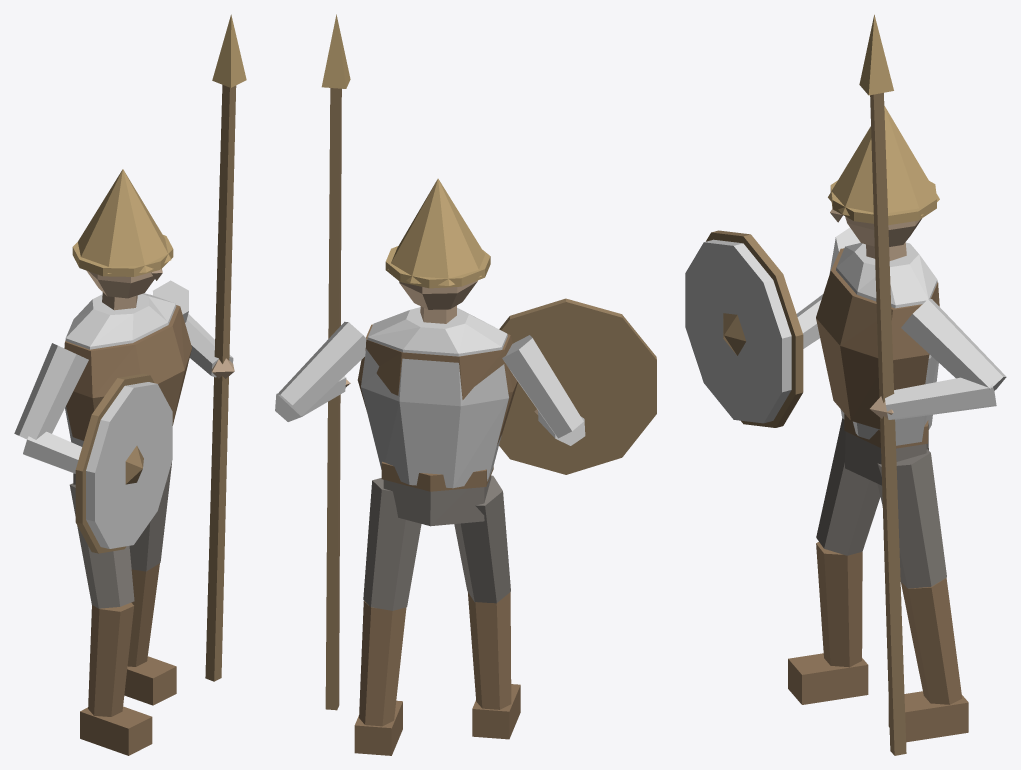
The model's file is spearman.glb.
The picture shows the model from 3 angles, left to right: view 1: azimuth 30°, elevation 25°; view 2: azimuth 150°, elevation 25°; view 3: azimuth 270°, elevation 25°; orthographic projection. The views are drawn at different scales.
Visible parts, largest first — view 1: LOD0; view 2: LOD0; view 3: LOD0.
Part boxes in pixels (bbox=[...]): LOD0: bbox=[14, 14, 246, 755]; LOD0: bbox=[275, 14, 656, 755]; LOD0: bbox=[685, 14, 1006, 755].
Size of what is drawn, in the model's own units: 0.4951 by 1.3 by 0.5024.
